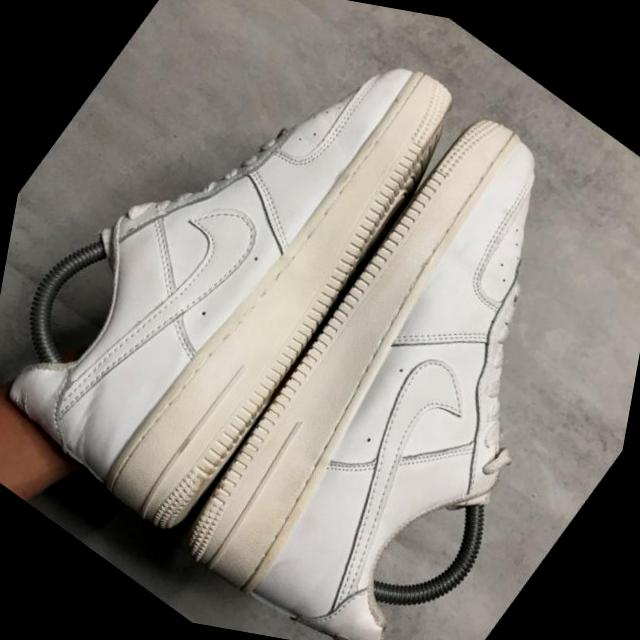nike_fake_airforce: (0, 0, 500, 589), (153, 65, 640, 640)
